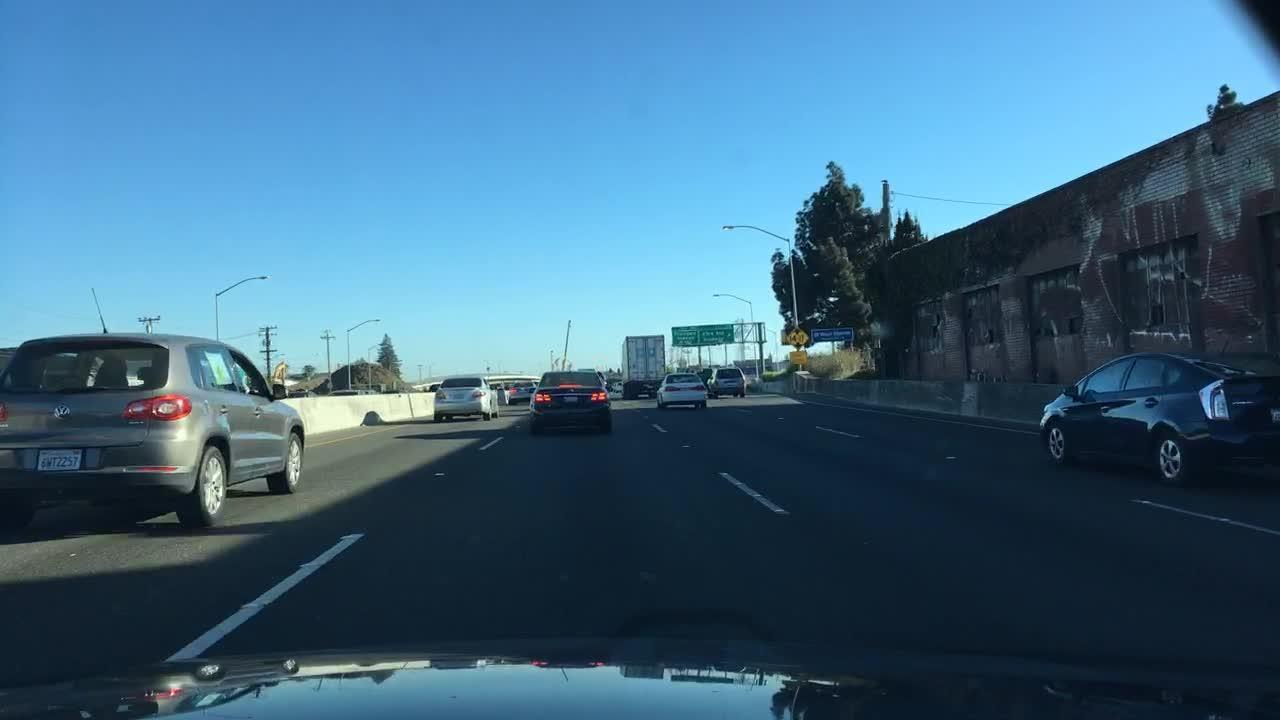Volkswagen: (51, 404, 73, 423)
